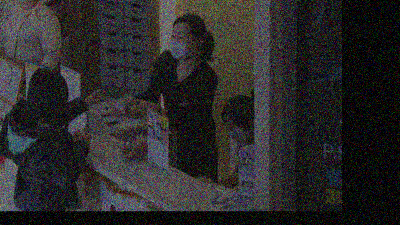with_mask: (169, 29, 194, 62), (223, 118, 250, 142)
